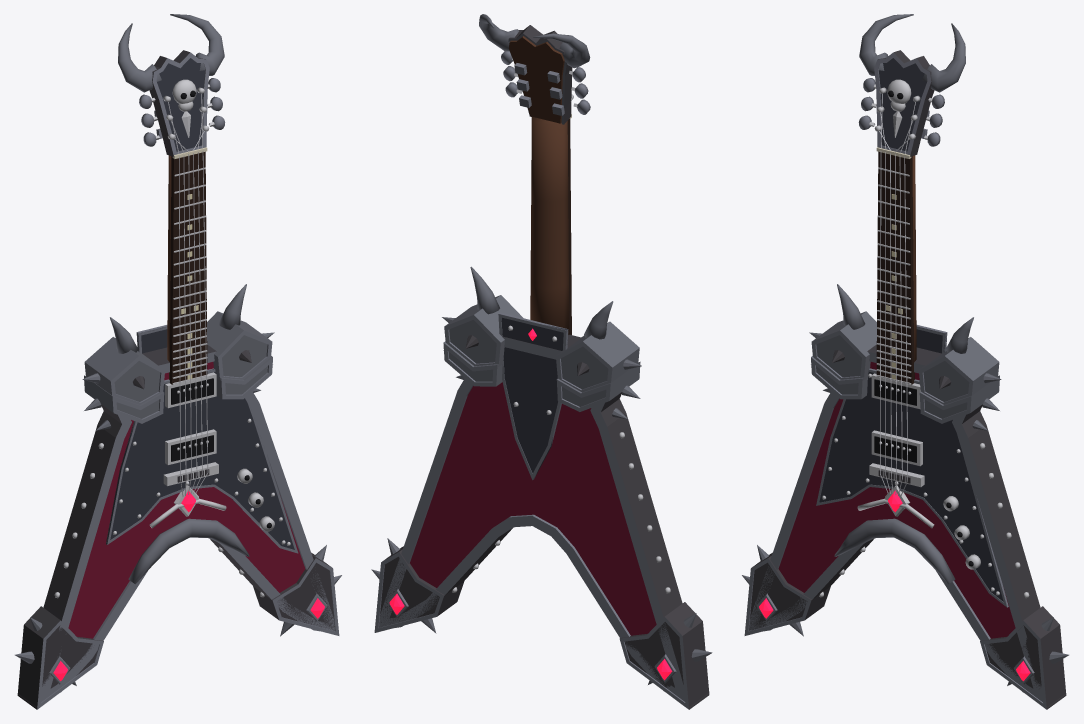
Rendered from guitare_heros.glb.
3 views of the same model, side by side, from view 1: azimuth 30°, elevation 25°; view 2: azimuth 150°, elevation 25°; view 3: azimuth 330°, elevation 25° (orthographic). The views are drawn at different scales.
Parts seen in each view (by area): view 1: Guitare; view 2: Guitare; view 3: Guitare.
Boxes of the visible parts, x1=… form: Guitare: x1=15, y1=14, x2=341, y2=709; Guitare: x1=371, y1=14, x2=712, y2=709; Guitare: x1=742, y1=14, x2=1068, y2=709.
Size of the model in its own units: 0.6213 by 1.14 by 0.154.
